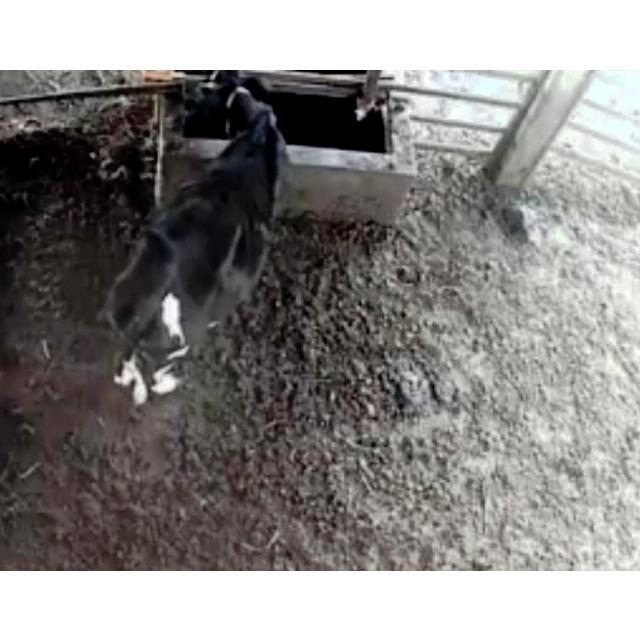drink: (170, 72, 318, 195)
